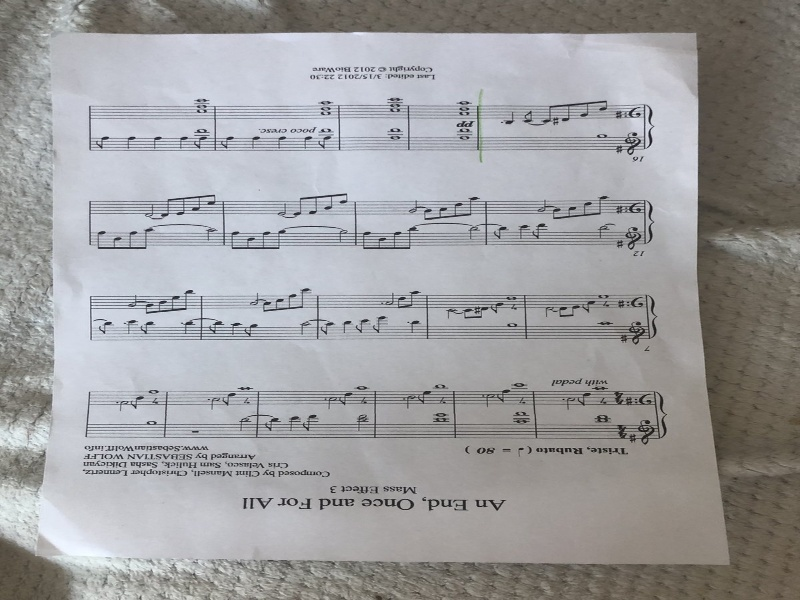document: (36, 34, 732, 566)
